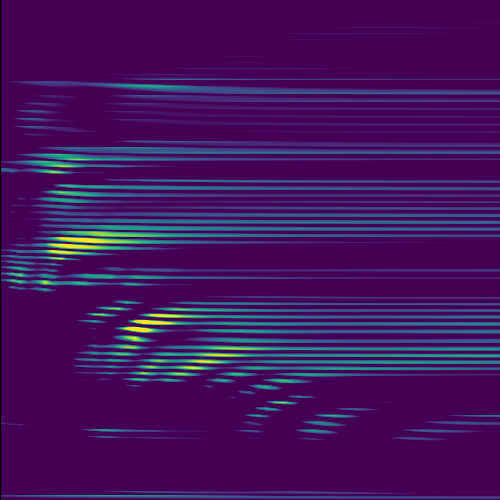semblance: (79, 297, 199, 358), (41, 222, 154, 265), (162, 338, 268, 382), (31, 150, 94, 181)
